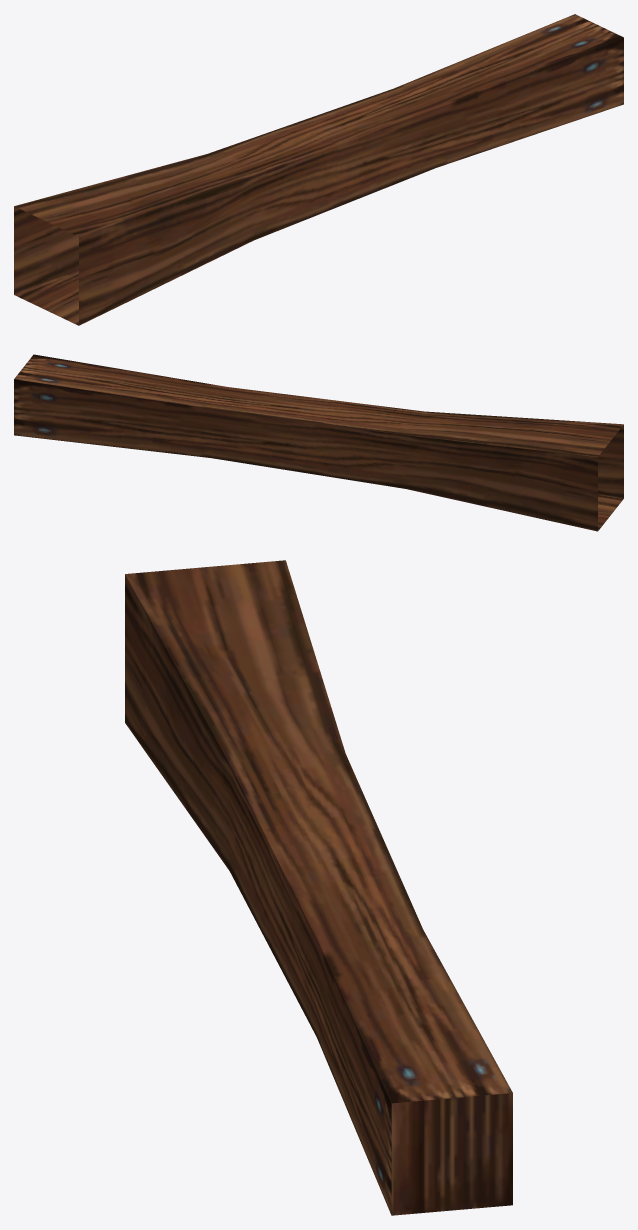
File: OVERHILL_A_01_POST17.fbx
3 views of the same model, one above another, from view 1: azimuth 30°, elevation 25°; view 2: azimuth 150°, elevation 25°; view 3: azimuth 270°, elevation 25° (orthographic). The views are drawn at different scales.
Visible parts, largest first — view 1: OVERHILL_A_01_POST17; view 2: OVERHILL_A_01_POST17; view 3: OVERHILL_A_01_POST17.
Part boxes in pixels (x1,y1,x2,y2): OVERHILL_A_01_POST17: (14, 14, 623, 325); OVERHILL_A_01_POST17: (14, 354, 623, 531); OVERHILL_A_01_POST17: (125, 560, 512, 1215).
Bounding box in the file's own units: 16839 × 2225 × 5260.
1 material, 1 textured.
